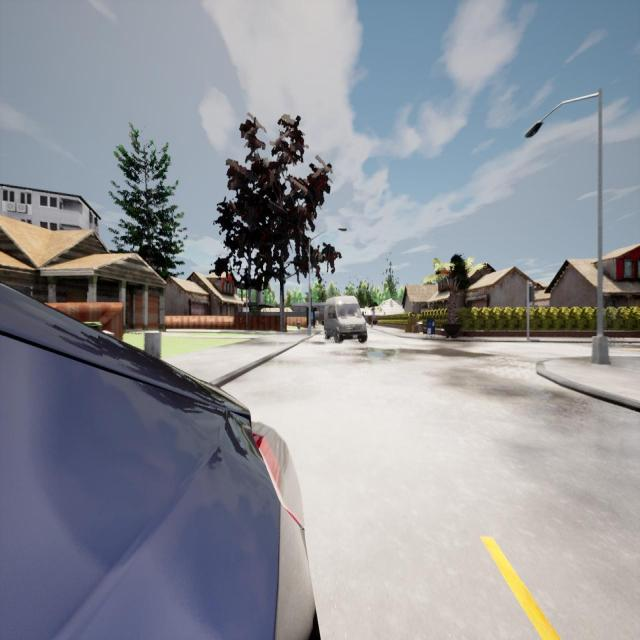Vehicle: (1, 283, 318, 640), (324, 297, 368, 343)
traffic_light: (529, 283, 534, 303)
